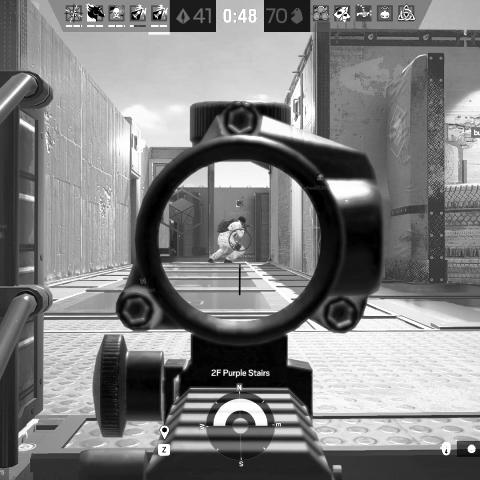Character: (207, 216, 253, 264)
Friend_label: (302, 172, 338, 191), (229, 199, 251, 215)
Head: (238, 216, 247, 224)
